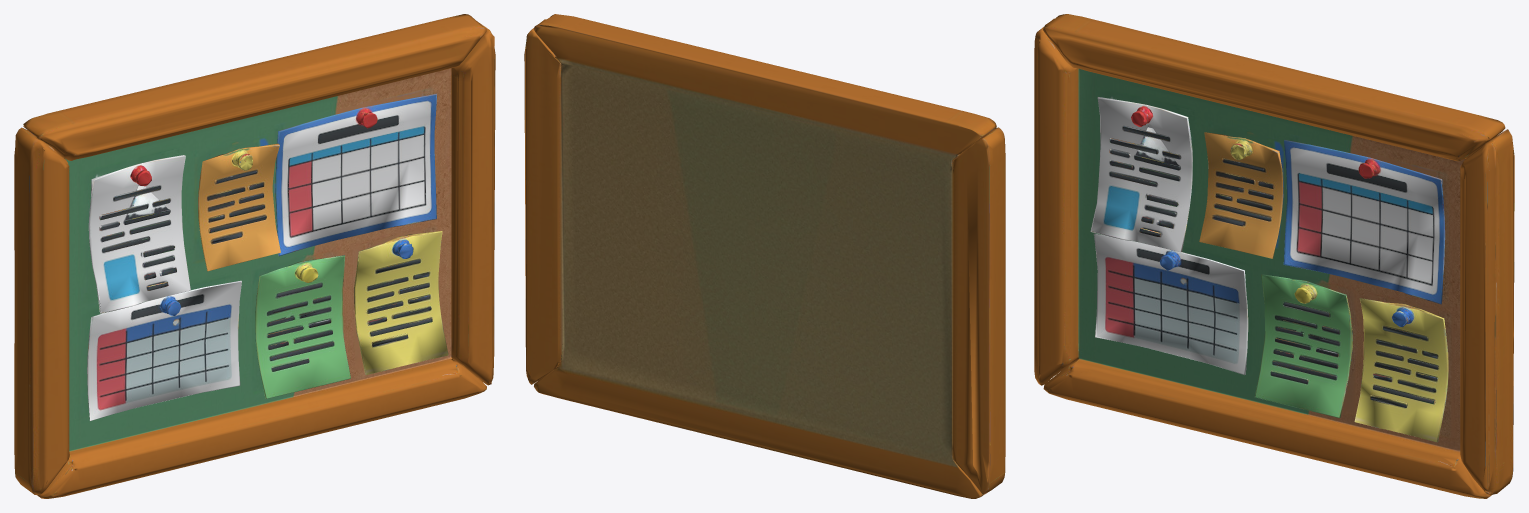
The model's file is pinned-plans-board.glb.
3 renders of one model, left to right at view 1: azimuth 30°, elevation 25°; view 2: azimuth 150°, elevation 25°; view 3: azimuth 330°, elevation 25°, orthographic.
Size of the model in its own units: 0.957 by 0.73 by 0.084.
Materials: 1 (1 with a texture image).
